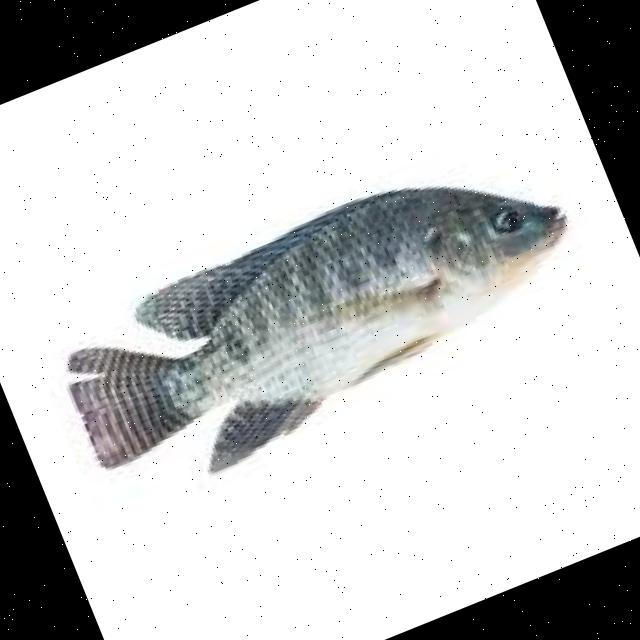ikan: (39, 122, 609, 514)
